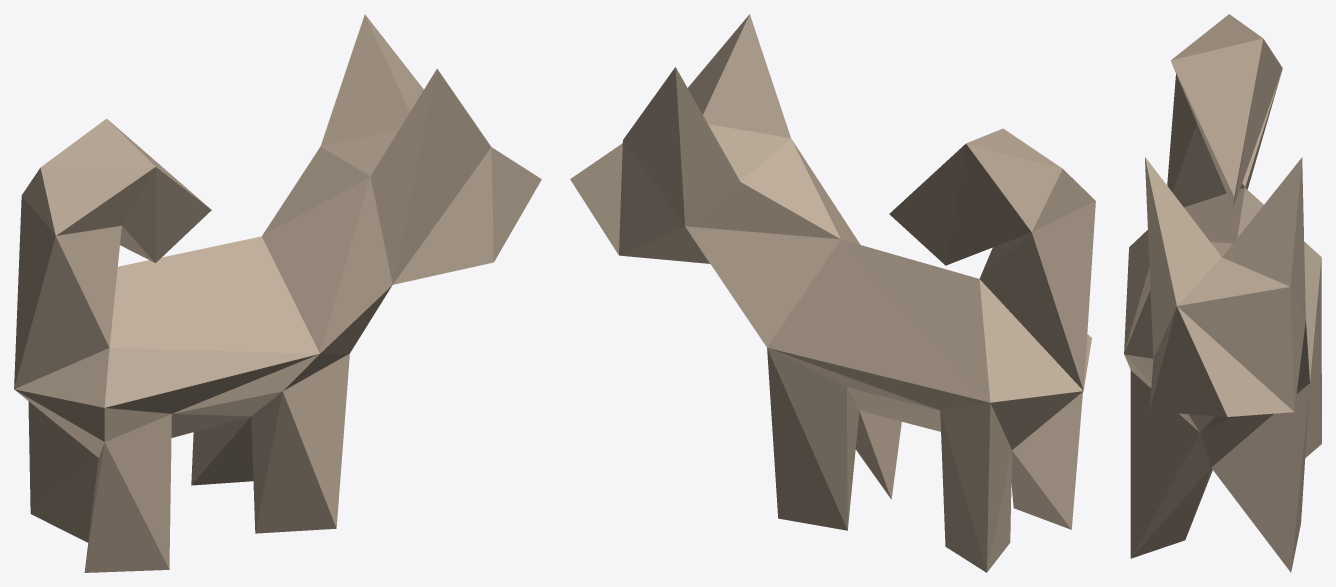
The picture shows the model from 3 angles, left to right: view 1: azimuth 30°, elevation 25°; view 2: azimuth 150°, elevation 25°; view 3: azimuth 270°, elevation 25°; orthographic projection. The views are drawn at different scales.
Visible parts, largest first — view 1: part0; view 2: part0; view 3: part0.
Part boxes in pixels (<box>): part0: <box>14,14,541,572</box>; part0: <box>570,14,1095,572</box>; part0: <box>1124,14,1321,572</box>.
Size of the model in its own units: 3.2 by 2.56 by 0.9805.
